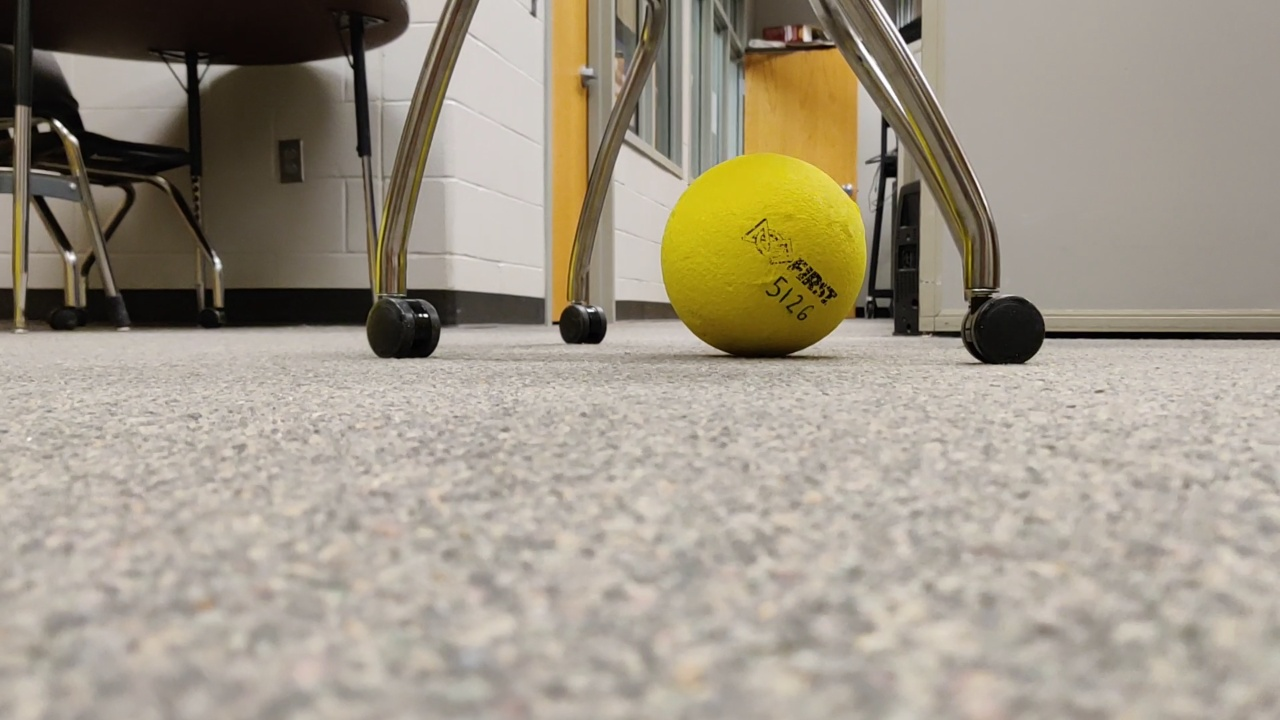Ball: (650, 149, 872, 367)
